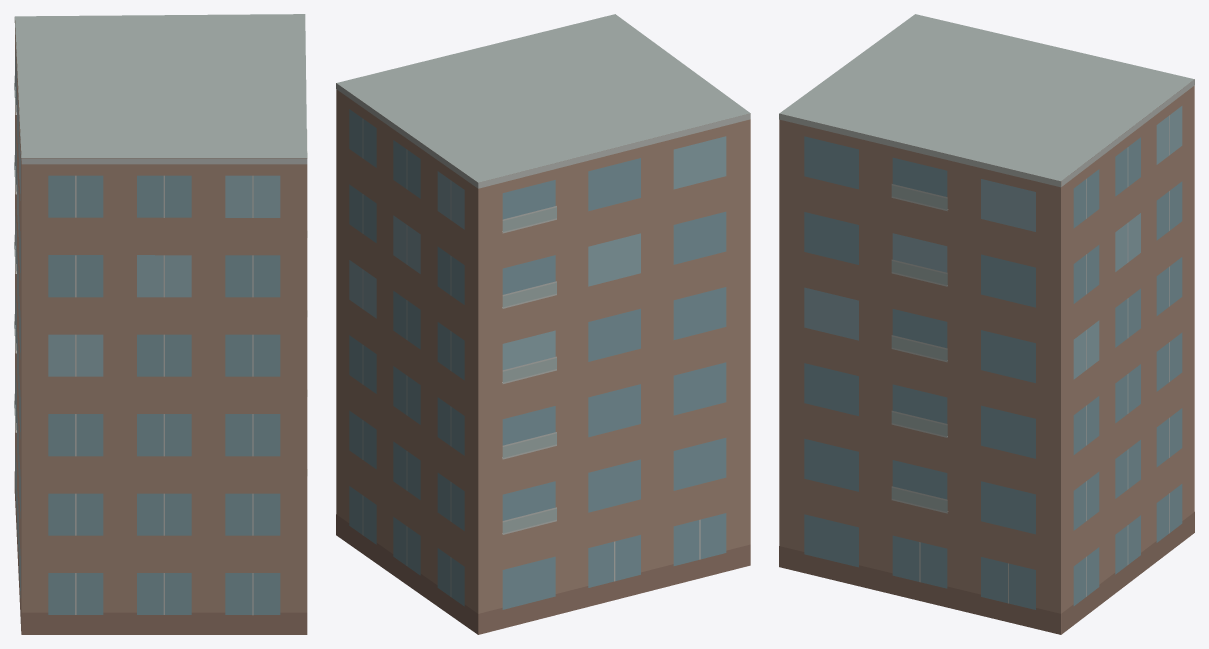
The model's file is survey-upis-33021402.glb.
3 renders of one model, left to right at view 1: azimuth 30°, elevation 25°; view 2: azimuth 150°, elevation 25°; view 3: azimuth 270°, elevation 25°, orthographic. The views are drawn at different scales.
Parts seen in each view (by area): view 1: survey-upis-33021402.tmp; view 2: survey-upis-33021402.tmp; view 3: survey-upis-33021402.tmp.
Part boxes in pixels (x1,y1,x2,y2): survey-upis-33021402.tmp: [14, 14, 307, 634]; survey-upis-33021402.tmp: [336, 14, 750, 634]; survey-upis-33021402.tmp: [779, 14, 1194, 634].
Bounding box in the file's own units: 14.49 × 18.3 × 15.2.
